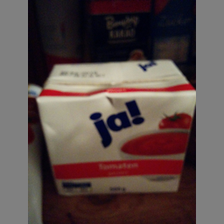tomato_sauce: (36, 58, 194, 197)
